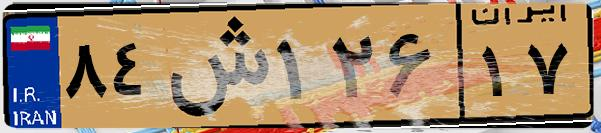1: (270, 28, 330, 110), (475, 38, 525, 113)
2: (330, 28, 385, 110)
4: (110, 28, 158, 98)
6: (385, 28, 445, 110)
7: (525, 38, 570, 115)
8: (57, 26, 110, 100)
ش: (158, 12, 270, 120)
